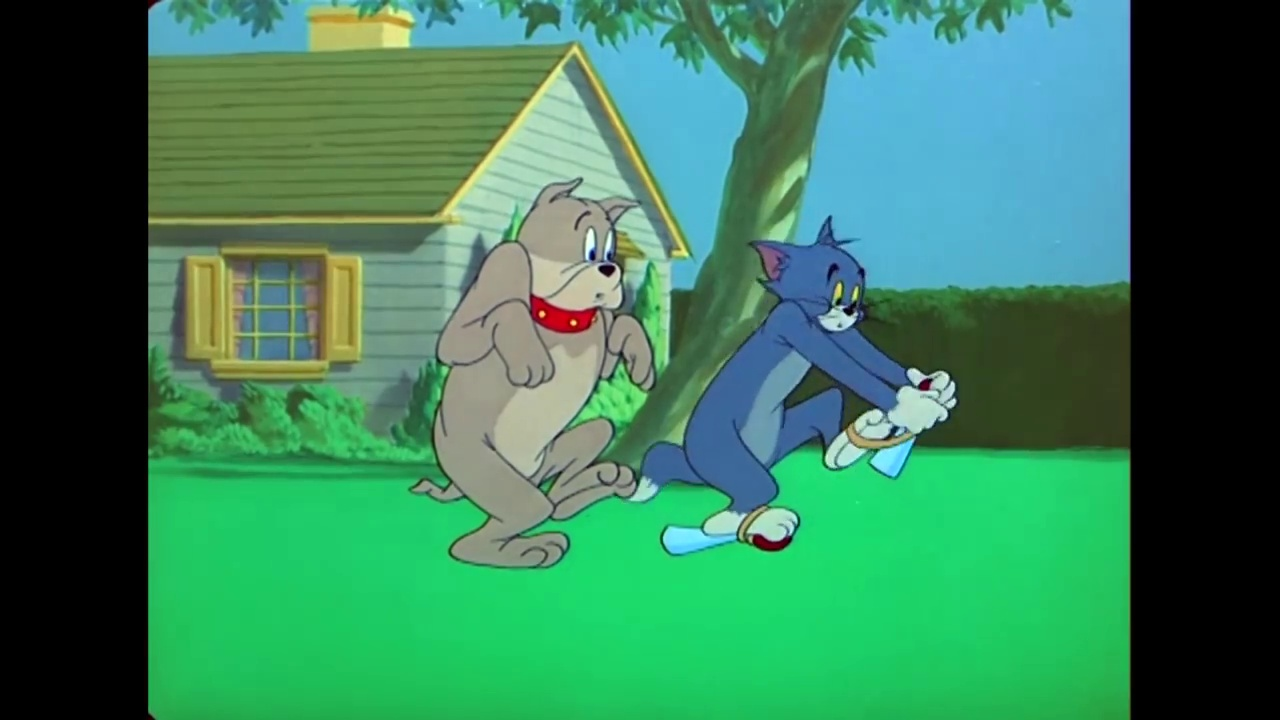spike: (506, 176, 642, 342)
tom: (746, 215, 873, 335)
